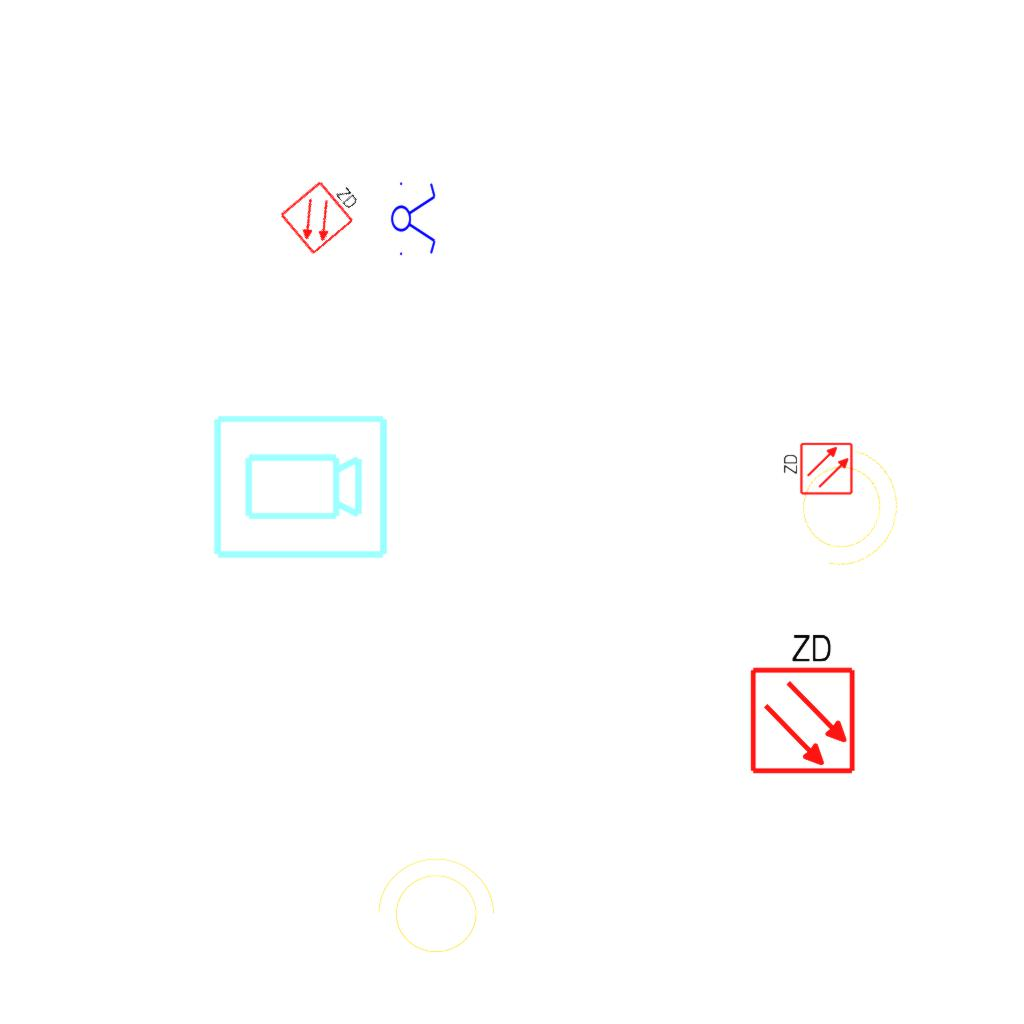KFO_Kamera_mit_Festobjektiv: (209, 411, 391, 565)
Scheinwerfer_fuer_Alarmbeleuchtung: (777, 428, 917, 582), (367, 853, 499, 965)
Serienschalter: (390, 176, 438, 260)
ZD_Melder_in_Zwischendecke_mit_Revisionsoeffnung_mind_40_x_40_cm: (744, 627, 858, 776), (276, 165, 371, 257), (780, 441, 854, 498)
